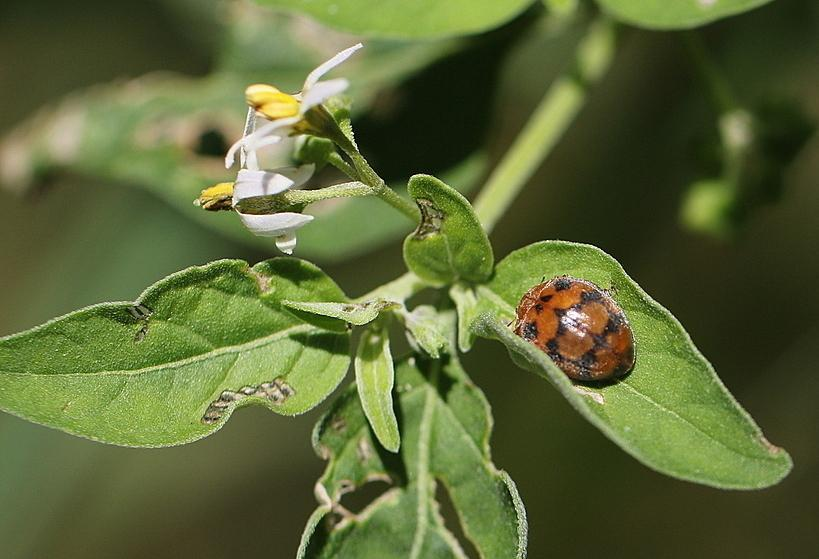ladybug: (507, 275, 642, 385)
